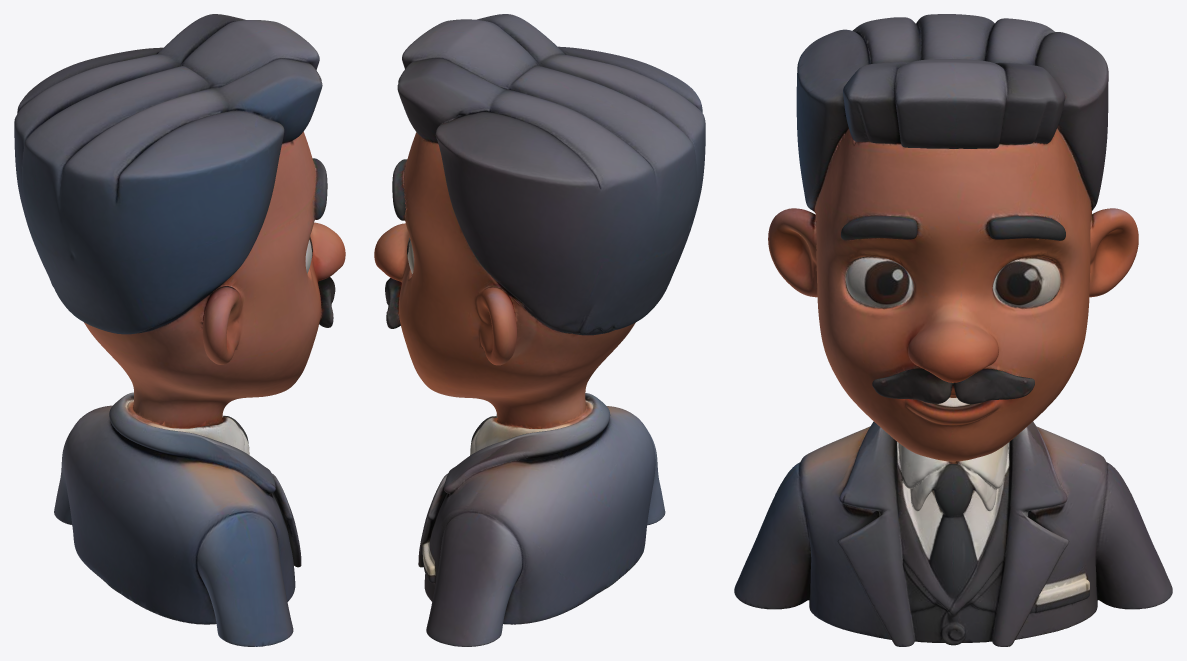
Rendered from composer_joplin.glb.
3 views of the same model, side by side, from view 1: azimuth 30°, elevation 25°; view 2: azimuth 150°, elevation 25°; view 3: azimuth 270°, elevation 25° (orthographic). The views are drawn at different scales.
Parts seen in each view (by area): view 1: tripo_node_76082219-5e97-4fcf-a0b2-0659c408c815; view 2: tripo_node_76082219-5e97-4fcf-a0b2-0659c408c815; view 3: tripo_node_76082219-5e97-4fcf-a0b2-0659c408c815.
Boxes of the visible parts, x1,y1,x2,y2 form: tripo_node_76082219-5e97-4fcf-a0b2-0659c408c815: (14, 14, 345, 646); tripo_node_76082219-5e97-4fcf-a0b2-0659c408c815: (374, 14, 705, 646); tripo_node_76082219-5e97-4fcf-a0b2-0659c408c815: (734, 14, 1172, 646).
Size of the model in its own units: 0.6099 by 1 by 0.6939.
Materials: 1 (1 with a texture image).
